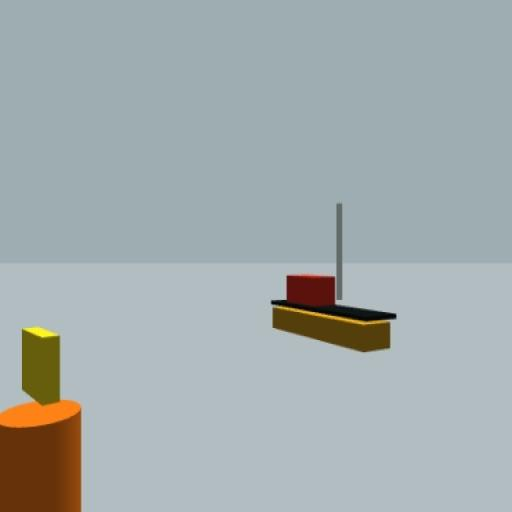vessel: (271, 202, 396, 355)
